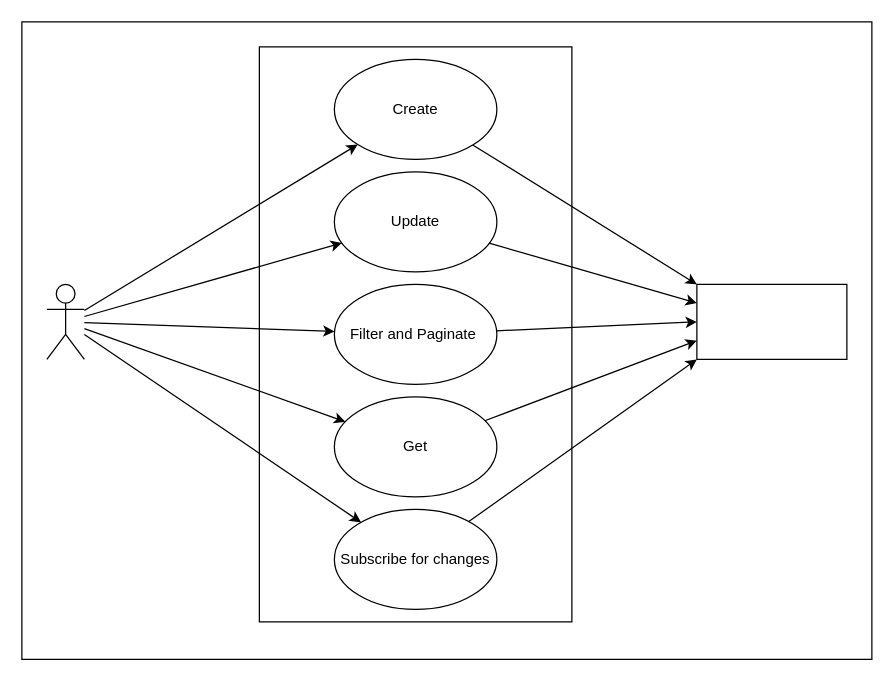
This 894x681 diagram has some shape labels left out. The shapes that lost their labels are listed below. From the top down, each one's box as (x1, y1, x2, y2) in pixels, then its label:
(46, 283, 84, 359): Actor
(696, 283, 847, 359): News
